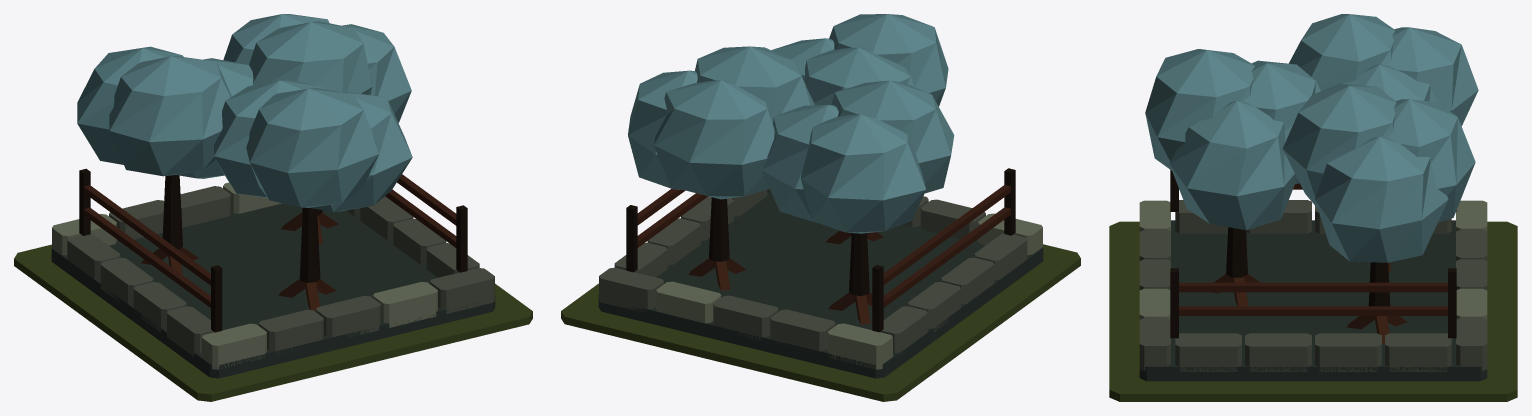
Rendered from frostgrove_t2.glb.
3 renders of one model, left to right at view 1: azimuth 30°, elevation 25°; view 2: azimuth 150°, elevation 25°; view 3: azimuth 270°, elevation 25°, orthographic. The views are drawn at different scales.
Visible parts, largest first — view 1: MMR | frostgrove | T02 Architecture.001, MMR | frostgrove | Tier 02 Ground.001; view 2: MMR | frostgrove | T02 Architecture.001, MMR | frostgrove | Tier 02 Ground.001; view 3: MMR | frostgrove | T02 Architecture.001, MMR | frostgrove | Tier 02 Ground.001.
Part boxes in pixels (box(x1,y1,x2,y2)): MMR | frostgrove | T02 Architecture.001: box(51, 14, 495, 378); MMR | frostgrove | Tier 02 Ground.001: box(14, 244, 532, 401); MMR | frostgrove | T02 Architecture.001: box(598, 14, 1043, 378); MMR | frostgrove | Tier 02 Ground.001: box(561, 244, 1080, 401); MMR | frostgrove | T02 Architecture.001: box(1139, 14, 1487, 381); MMR | frostgrove | Tier 02 Ground.001: box(1109, 221, 1517, 401).
Size of the model in its own units: 2.35 by 1.64 by 2.35.
1 material, 1 textured.
